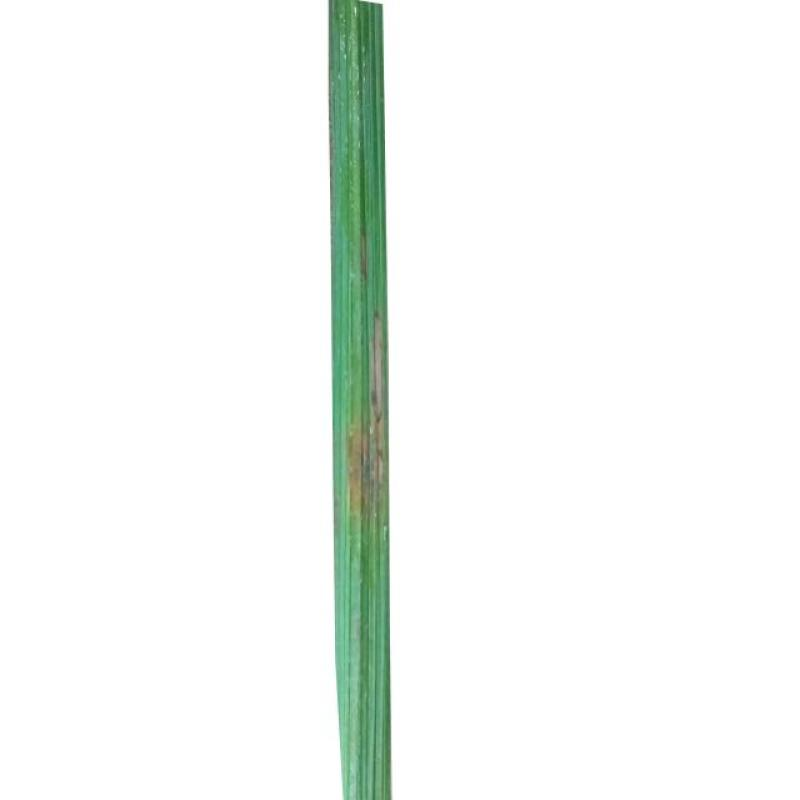Leaf_Blast: (344, 303, 384, 564), (360, 226, 369, 284)
